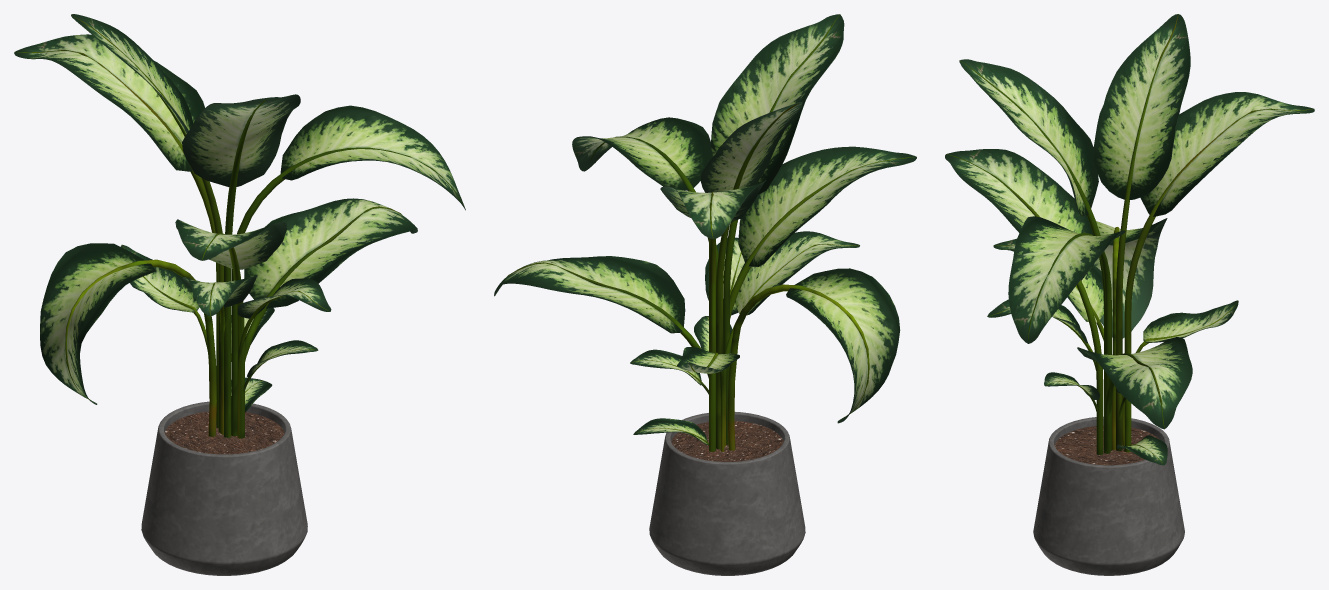
Rendered from glb-plant.glb.
3 renders of one model, left to right at view 1: azimuth 30°, elevation 25°; view 2: azimuth 150°, elevation 25°; view 3: azimuth 270°, elevation 25°, orthographic. The views are drawn at different scales.
Visible parts, largest first — view 1: plant_pot_02; view 2: plant_pot_02; view 3: plant_pot_02.
Boxes of the visible parts, box(x1,y1,x2,y2) form: plant_pot_02: box(14, 14, 465, 575); plant_pot_02: box(494, 14, 916, 575); plant_pot_02: box(945, 14, 1314, 575).
Size of the model in its own units: 0.7623 by 1.02 by 0.702.
Materials: 2 (2 with a texture image).
